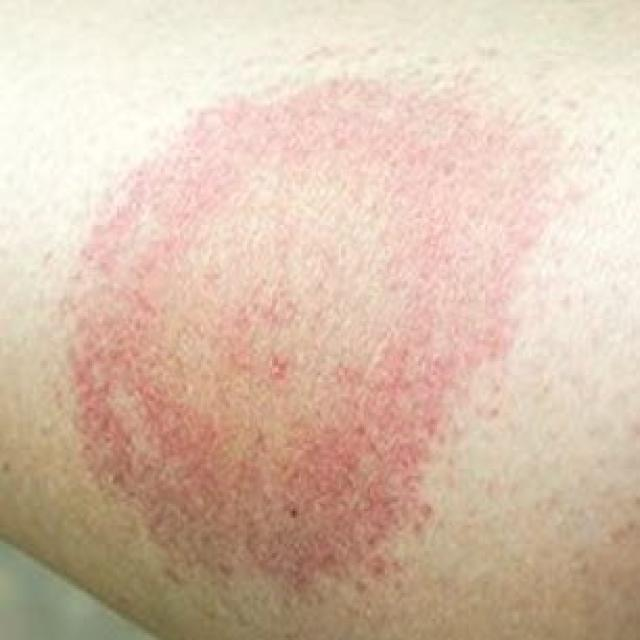kene: (95, 130, 489, 533)
